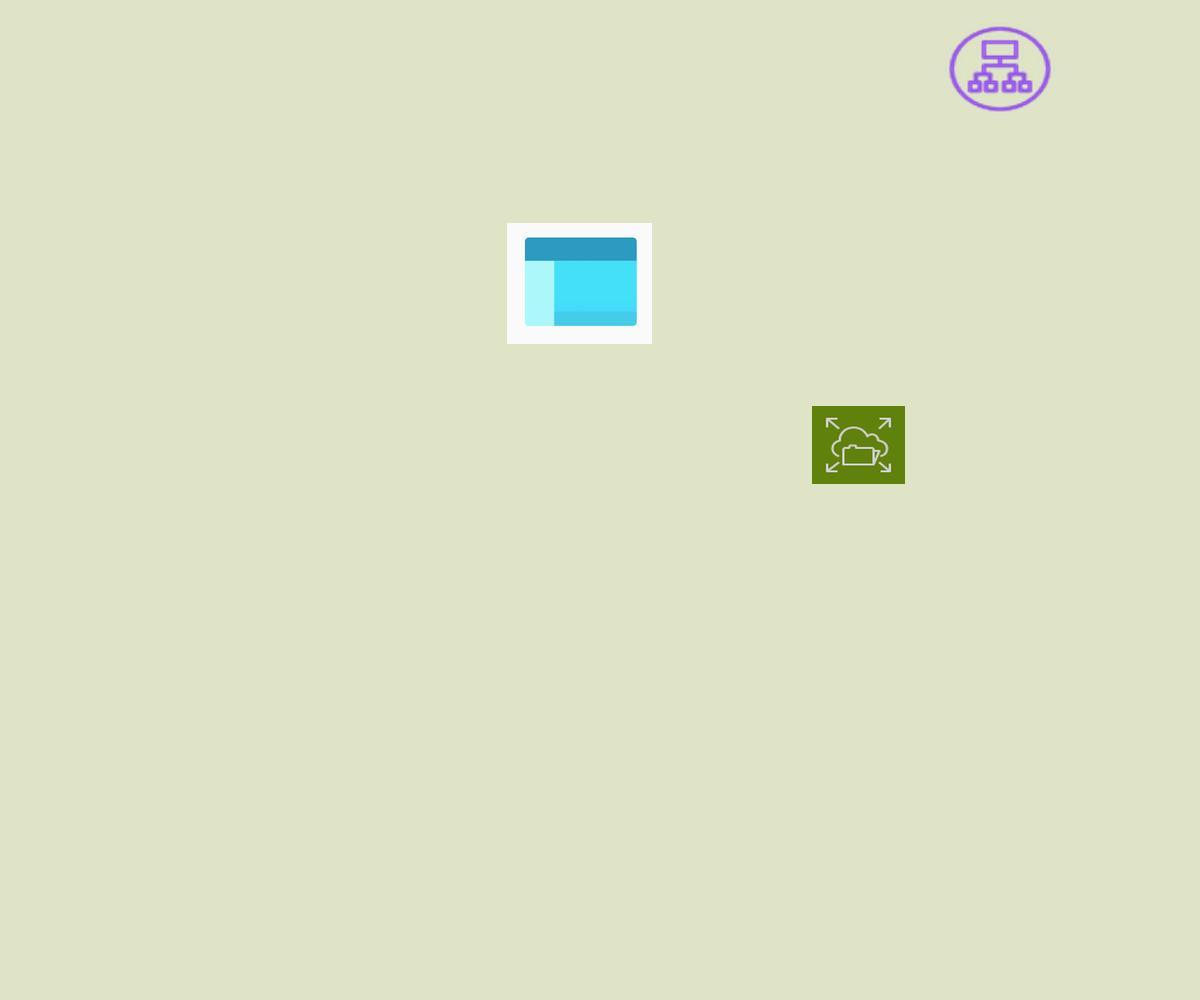AWS-EFS: (812, 406, 905, 484)
AWS-Res_Elastic-Load-Balancing_Application-Load-Balancer: (945, 23, 1055, 115)
Azure_management-portal: (507, 223, 652, 344)
